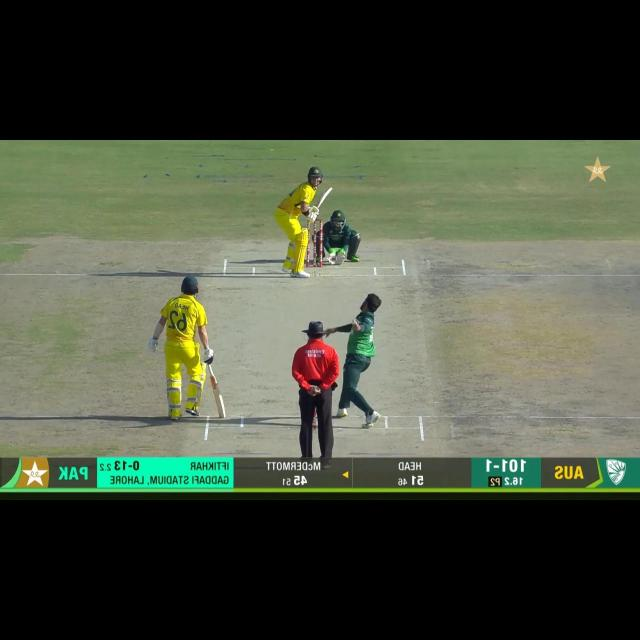bat: (208, 373, 228, 420), (312, 186, 336, 210)
toe: (216, 409, 227, 418), (326, 185, 334, 192)
